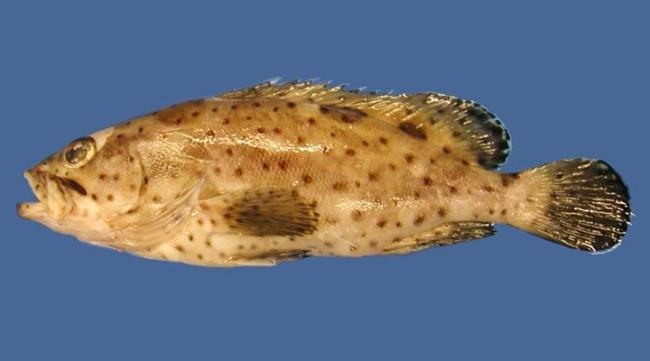fish: (16, 74, 632, 268)
